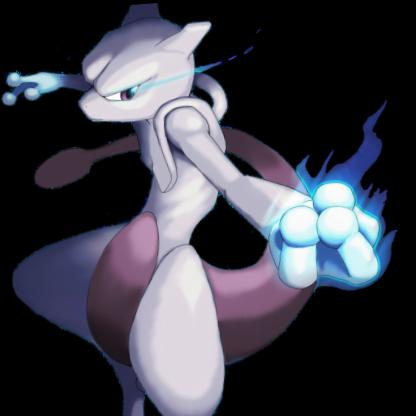Mewtwo: (1, 1, 416, 416), (1, 44, 416, 416)
